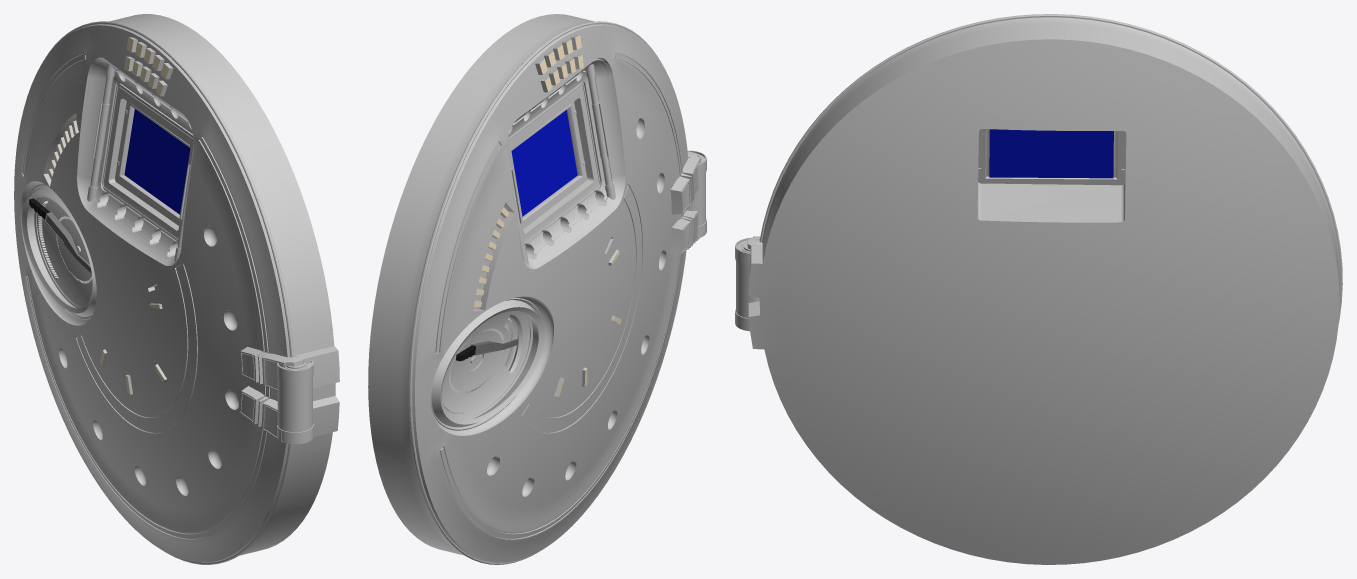
File: AirlockDoor_FBX.fbx
3 renders of one model, left to right at view 1: azimuth 30°, elevation 25°; view 2: azimuth 150°, elevation 25°; view 3: azimuth 270°, elevation 25°, orthographic. The views are drawn at different scales.
Parts seen in each view (by area): view 1: AirLockDoor; view 2: AirLockDoor; view 3: AirLockDoor.
Part boxes in pixels (x1,y1,x2,y2): AirLockDoor: [14, 14, 339, 564]; AirLockDoor: [368, 14, 706, 564]; AirLockDoor: [735, 14, 1342, 564].
Size of the model in its own units: 34.92 by 157 by 163.
